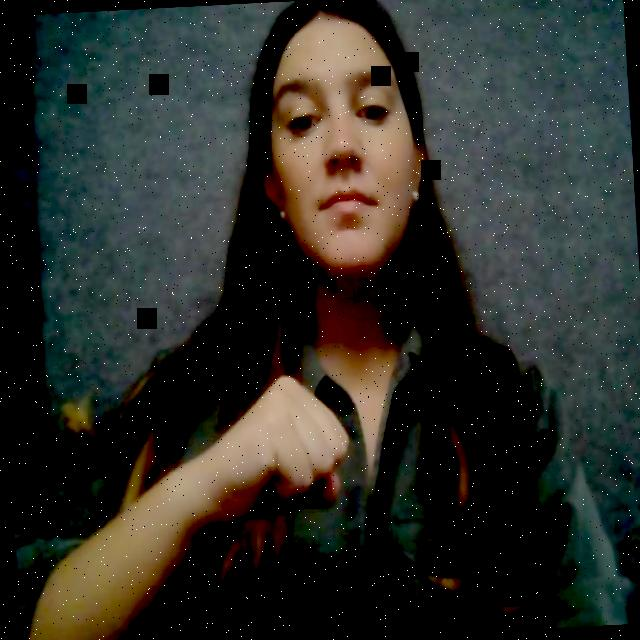Rock: (191, 358, 371, 542)
